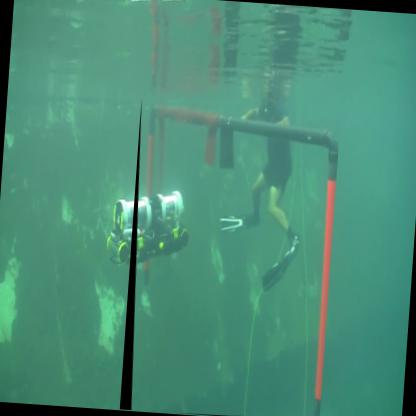gate: (121, 98, 344, 416)
